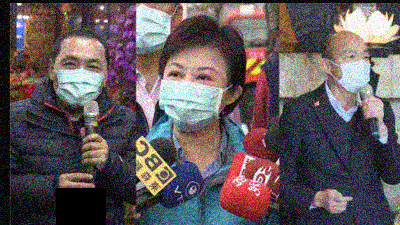with_mask: (157, 61, 228, 131), (51, 52, 106, 110), (327, 46, 369, 94)
